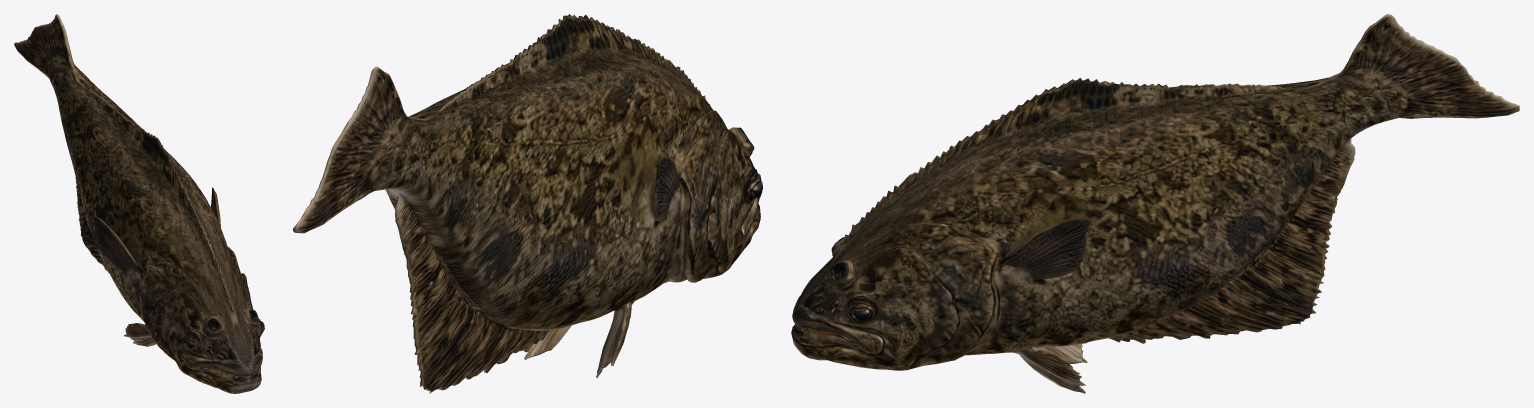
The model's file is halibut.glb.
The picture shows the model from 3 angles, left to right: view 1: azimuth 30°, elevation 25°; view 2: azimuth 150°, elevation 25°; view 3: azimuth 270°, elevation 25°; orthographic projection. The views are drawn at different scales.
Visible parts, largest first — view 1: tripo_node_4873135c-e758-4c8f-a9b6-64bcfc7ab50f; view 2: tripo_node_4873135c-e758-4c8f-a9b6-64bcfc7ab50f; view 3: tripo_node_4873135c-e758-4c8f-a9b6-64bcfc7ab50f.
Boxes of the visible parts, x1,y1,x2,y2 form: tripo_node_4873135c-e758-4c8f-a9b6-64bcfc7ab50f: [14, 14, 264, 393]; tripo_node_4873135c-e758-4c8f-a9b6-64bcfc7ab50f: [293, 14, 762, 393]; tripo_node_4873135c-e758-4c8f-a9b6-64bcfc7ab50f: [791, 14, 1519, 393].
Size of the model in its own units: 0.2814 by 0.557 by 0.9998.
Materials: 1 (1 with a texture image).
